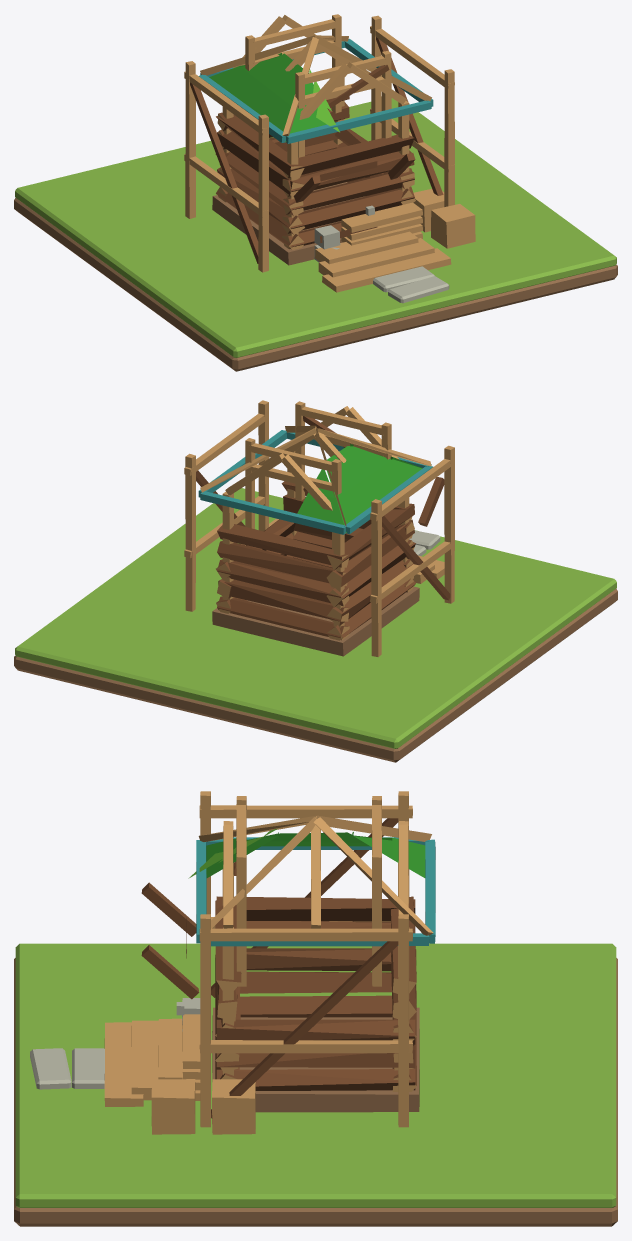
Rendered from town_hall_l01_construction_LOD2.glb.
3 renders of one model, top to bottom at view 1: azimuth 30°, elevation 25°; view 2: azimuth 150°, elevation 25°; view 3: azimuth 270°, elevation 25°, orthographic. The views are drawn at different scales.
Visible parts, largest first — view 1: town_hall_l01_construction_foundation.001, town_hall_l01_construction_grass_tile.001, town_hall_l01_construction_earth_tile.001, town_hall_l01_construction_path_stone.005, town_hall_l01_construction_path_stone.004; view 2: town_hall_l01_construction_grass_tile.001, town_hall_l01_construction_foundation.001, town_hall_l01_construction_earth_tile.001; view 3: town_hall_l01_construction_grass_tile.001, town_hall_l01_construction_foundation.001, town_hall_l01_construction_earth_tile.001, town_hall_l01_construction_path_stone.005, town_hall_l01_construction_path_stone.004.
Boxes of the visible parts, left/top/right/bottom form: town_hall_l01_construction_foundation.001: left=184, top=14, right=475, bottom=292; town_hall_l01_construction_grass_tile.001: left=15, top=98, right=616, bottom=357; town_hall_l01_construction_earth_tile.001: left=14, top=198, right=617, bottom=371; town_hall_l01_construction_path_stone.005: left=388, top=276, right=449, bottom=303; town_hall_l01_construction_path_stone.004: left=373, top=266, right=434, bottom=292; town_hall_l01_construction_grass_tile.001: left=15, top=488, right=616, bottom=748; town_hall_l01_construction_foundation.001: left=184, top=400, right=454, bottom=656; town_hall_l01_construction_earth_tile.001: left=14, top=588, right=617, bottom=762; town_hall_l01_construction_grass_tile.001: left=15, top=943, right=616, bottom=1207; town_hall_l01_construction_foundation.001: left=104, top=791, right=435, bottom=1134; town_hall_l01_construction_earth_tile.001: left=14, top=958, right=617, bottom=1226; town_hall_l01_construction_path_stone.005: left=30, top=1048, right=71, bottom=1089; town_hall_l01_construction_path_stone.004: left=72, top=1048, right=104, bottom=1088.
Bounding box in the file's own units: 3.6 × 1.88 × 3.6.
